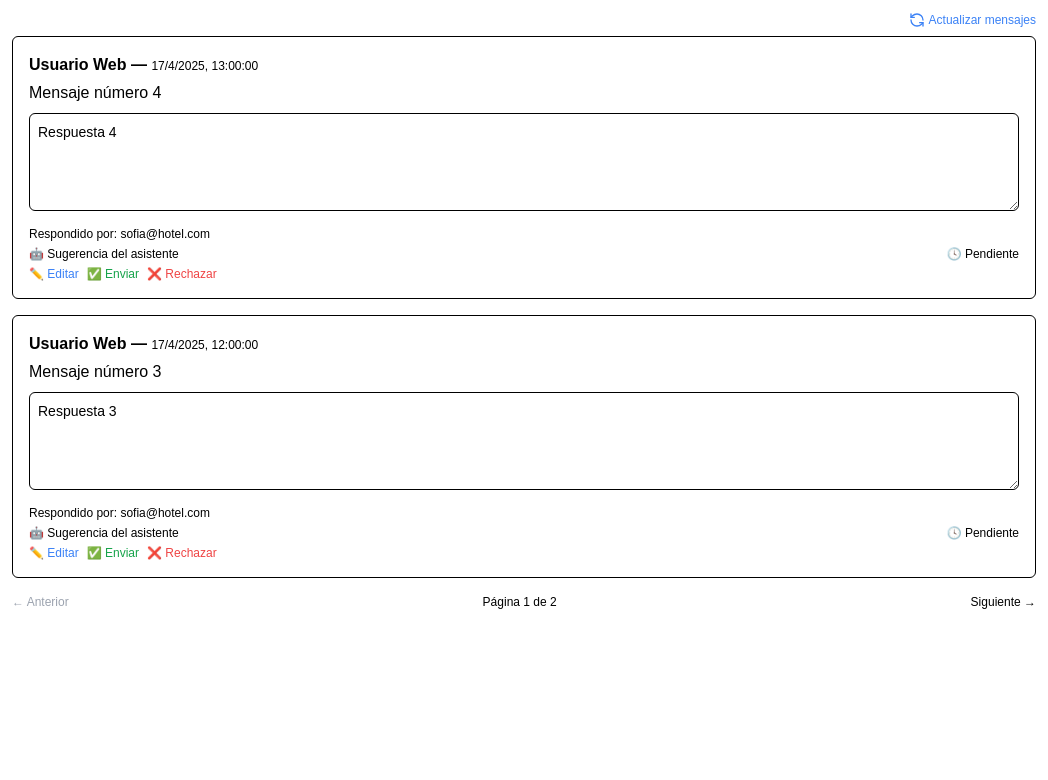
Scenario: <ChannelMessages /> › muestra solo 2 mensajes por página y permite paginar
Expected: the text "Mensaje número 4" is shown, [29,84,162,101]
Click the button "Siguiente →". click: (1003, 602)
box: [971,594,1036,610]
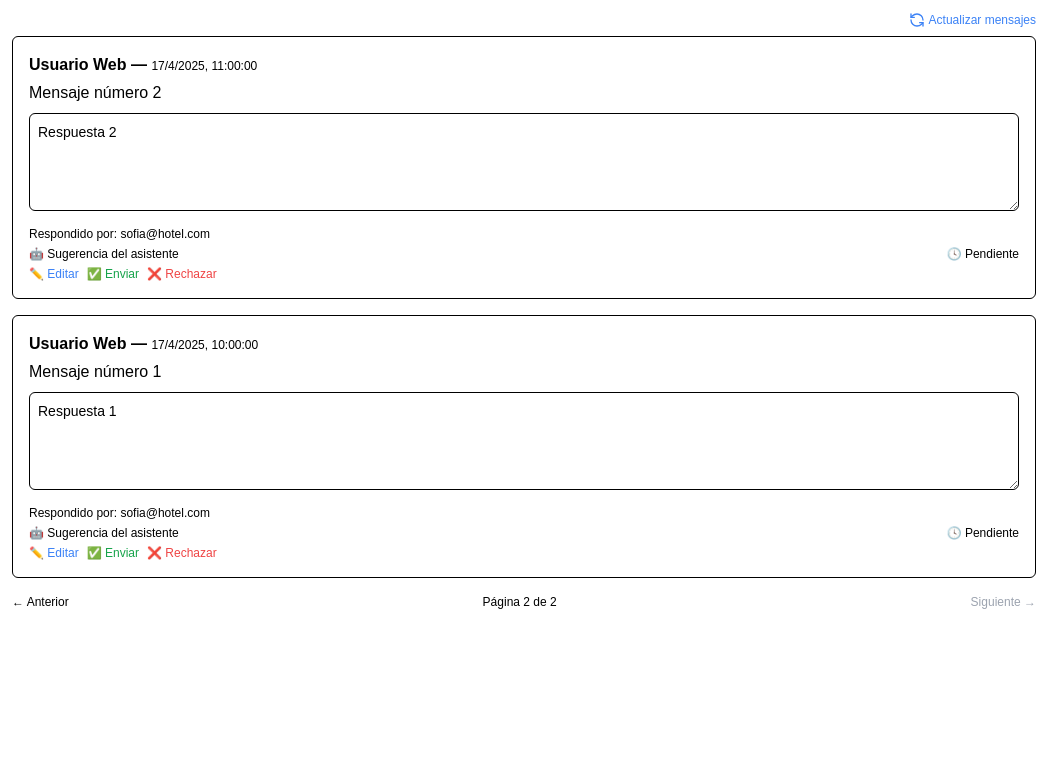
Result: the text "Mensaje número 1" is shown at [29,363,162,380]
Click the button "← Anterior". click: (40, 602)
box: [12,594,69,610]
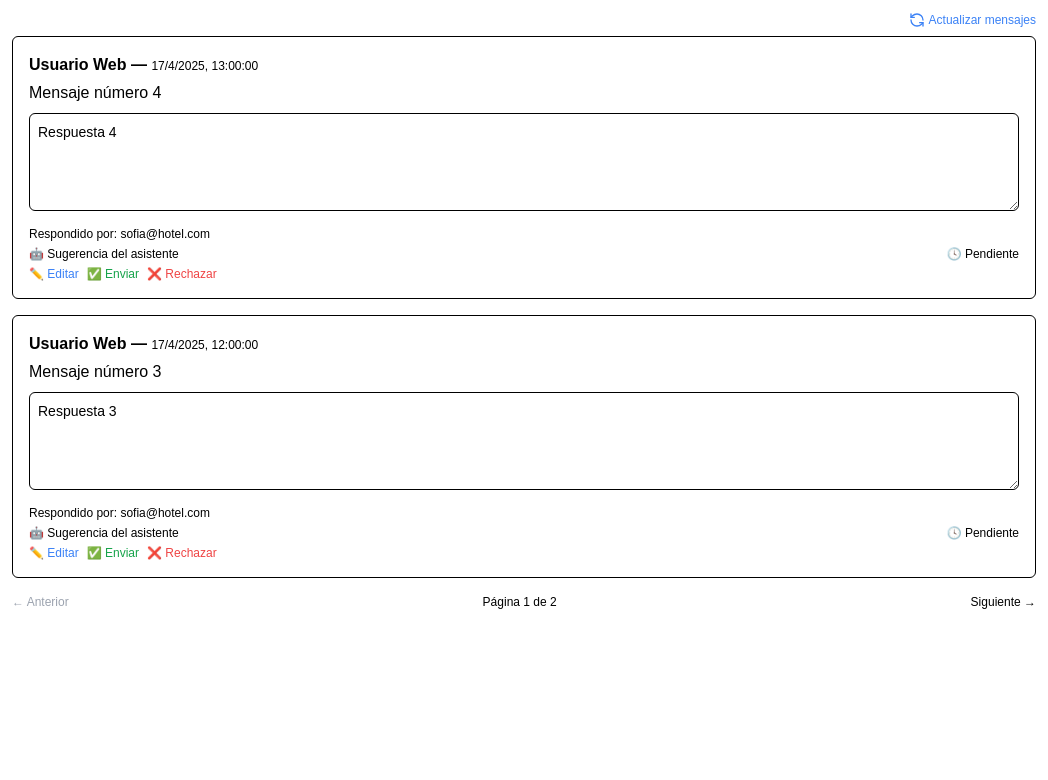
Result: the text "Mensaje número 4" is shown at [29,84,162,101]
